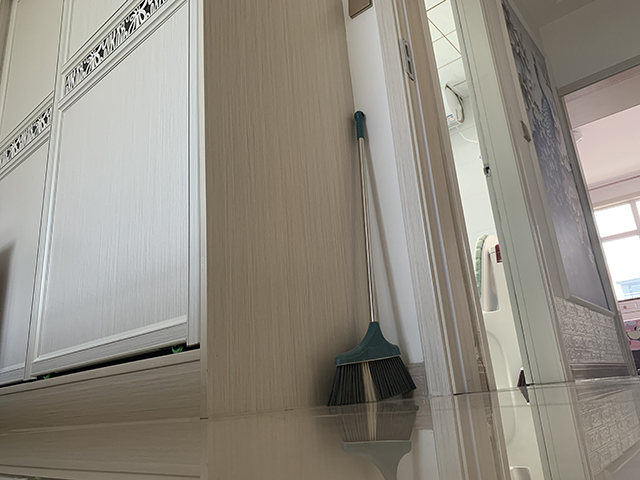cabinet: (1, 1, 379, 433)
